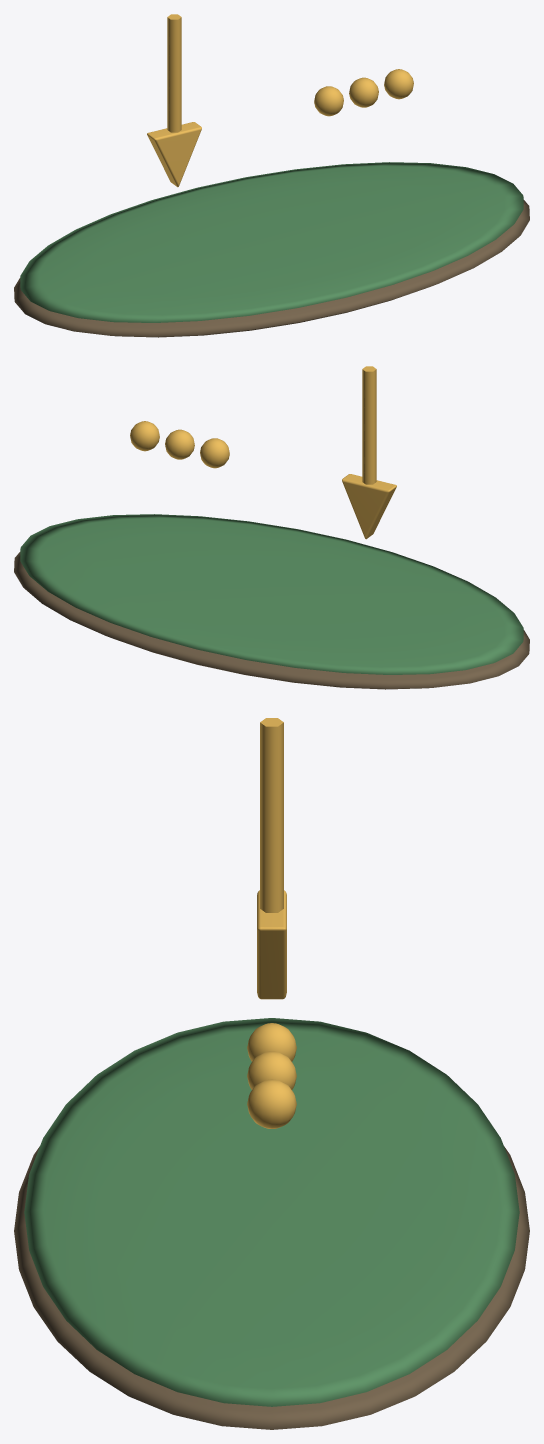
Rendered from decreasing-count.glb.
3 renders of one model, top to bottom at view 1: azimuth 30°, elevation 25°; view 2: azimuth 150°, elevation 25°; view 3: azimuth 270°, elevation 25°, orthographic. The views are drawn at different scales.
Parts seen in each view (by area): view 1: decreasing-count_surface_01, decreasing-count_surface_00, decreasing-count_surface_02; view 2: decreasing-count_surface_01, decreasing-count_surface_00, decreasing-count_surface_02; view 3: decreasing-count_surface_01, decreasing-count_surface_00, decreasing-count_surface_02.
Part boxes in pixels (x1,y1,x2,y2): decreasing-count_surface_01: (20, 162, 523, 322); decreasing-count_surface_00: (14, 200, 529, 337); decreasing-count_surface_02: (147, 14, 413, 187); decreasing-count_surface_01: (20, 514, 523, 674); decreasing-count_surface_00: (14, 552, 529, 689); decreasing-count_surface_02: (130, 366, 396, 539); decreasing-count_surface_01: (24, 1018, 519, 1406); decreasing-count_surface_00: (14, 1146, 529, 1429); decreasing-count_surface_02: (247, 718, 296, 1128).
Size of the model in its own units: 4.56 by 2.43 by 2.5.
